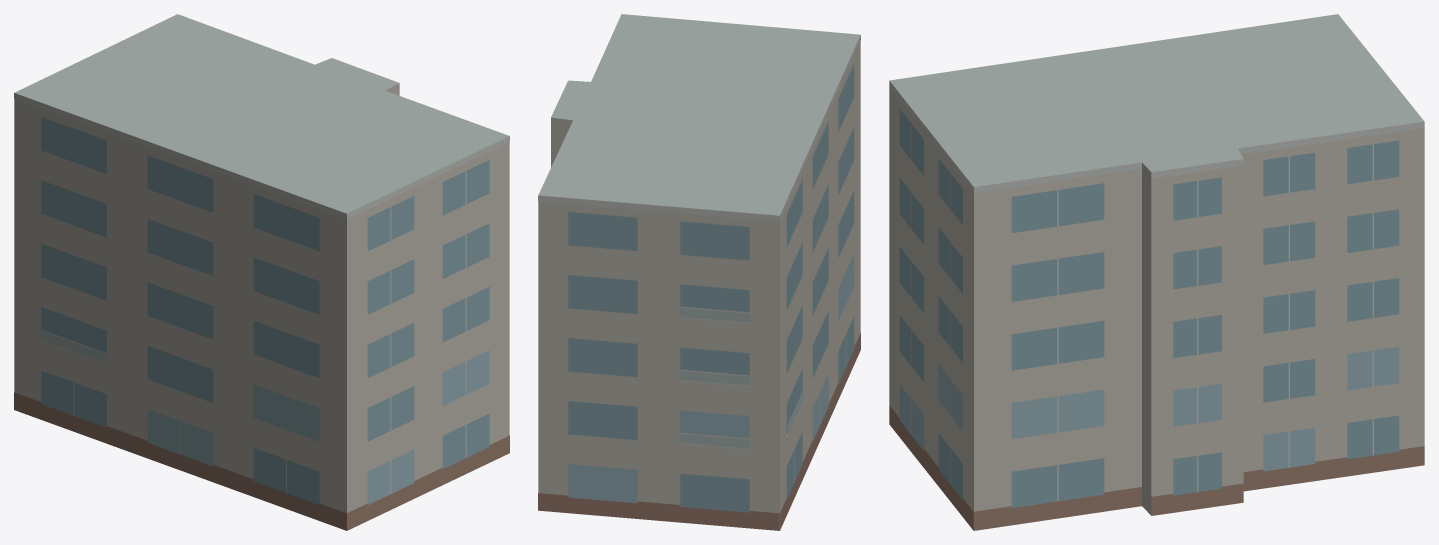
File: survey-upis-32914334.glb
The picture shows the model from 3 angles, left to right: view 1: azimuth 30°, elevation 25°; view 2: azimuth 150°, elevation 25°; view 3: azimuth 270°, elevation 25°; orthographic projection. The views are drawn at different scales.
Visible parts, largest first — view 1: survey-upis-32914334.tmp; view 2: survey-upis-32914334.tmp; view 3: survey-upis-32914334.tmp.
Part boxes in pixels (x1,y1,x2,y2): survey-upis-32914334.tmp: (14, 14, 509, 530); survey-upis-32914334.tmp: (538, 14, 860, 530); survey-upis-32914334.tmp: (889, 14, 1424, 530).
Size of the model in its own units: 14.33 by 13.25 by 18.71.
